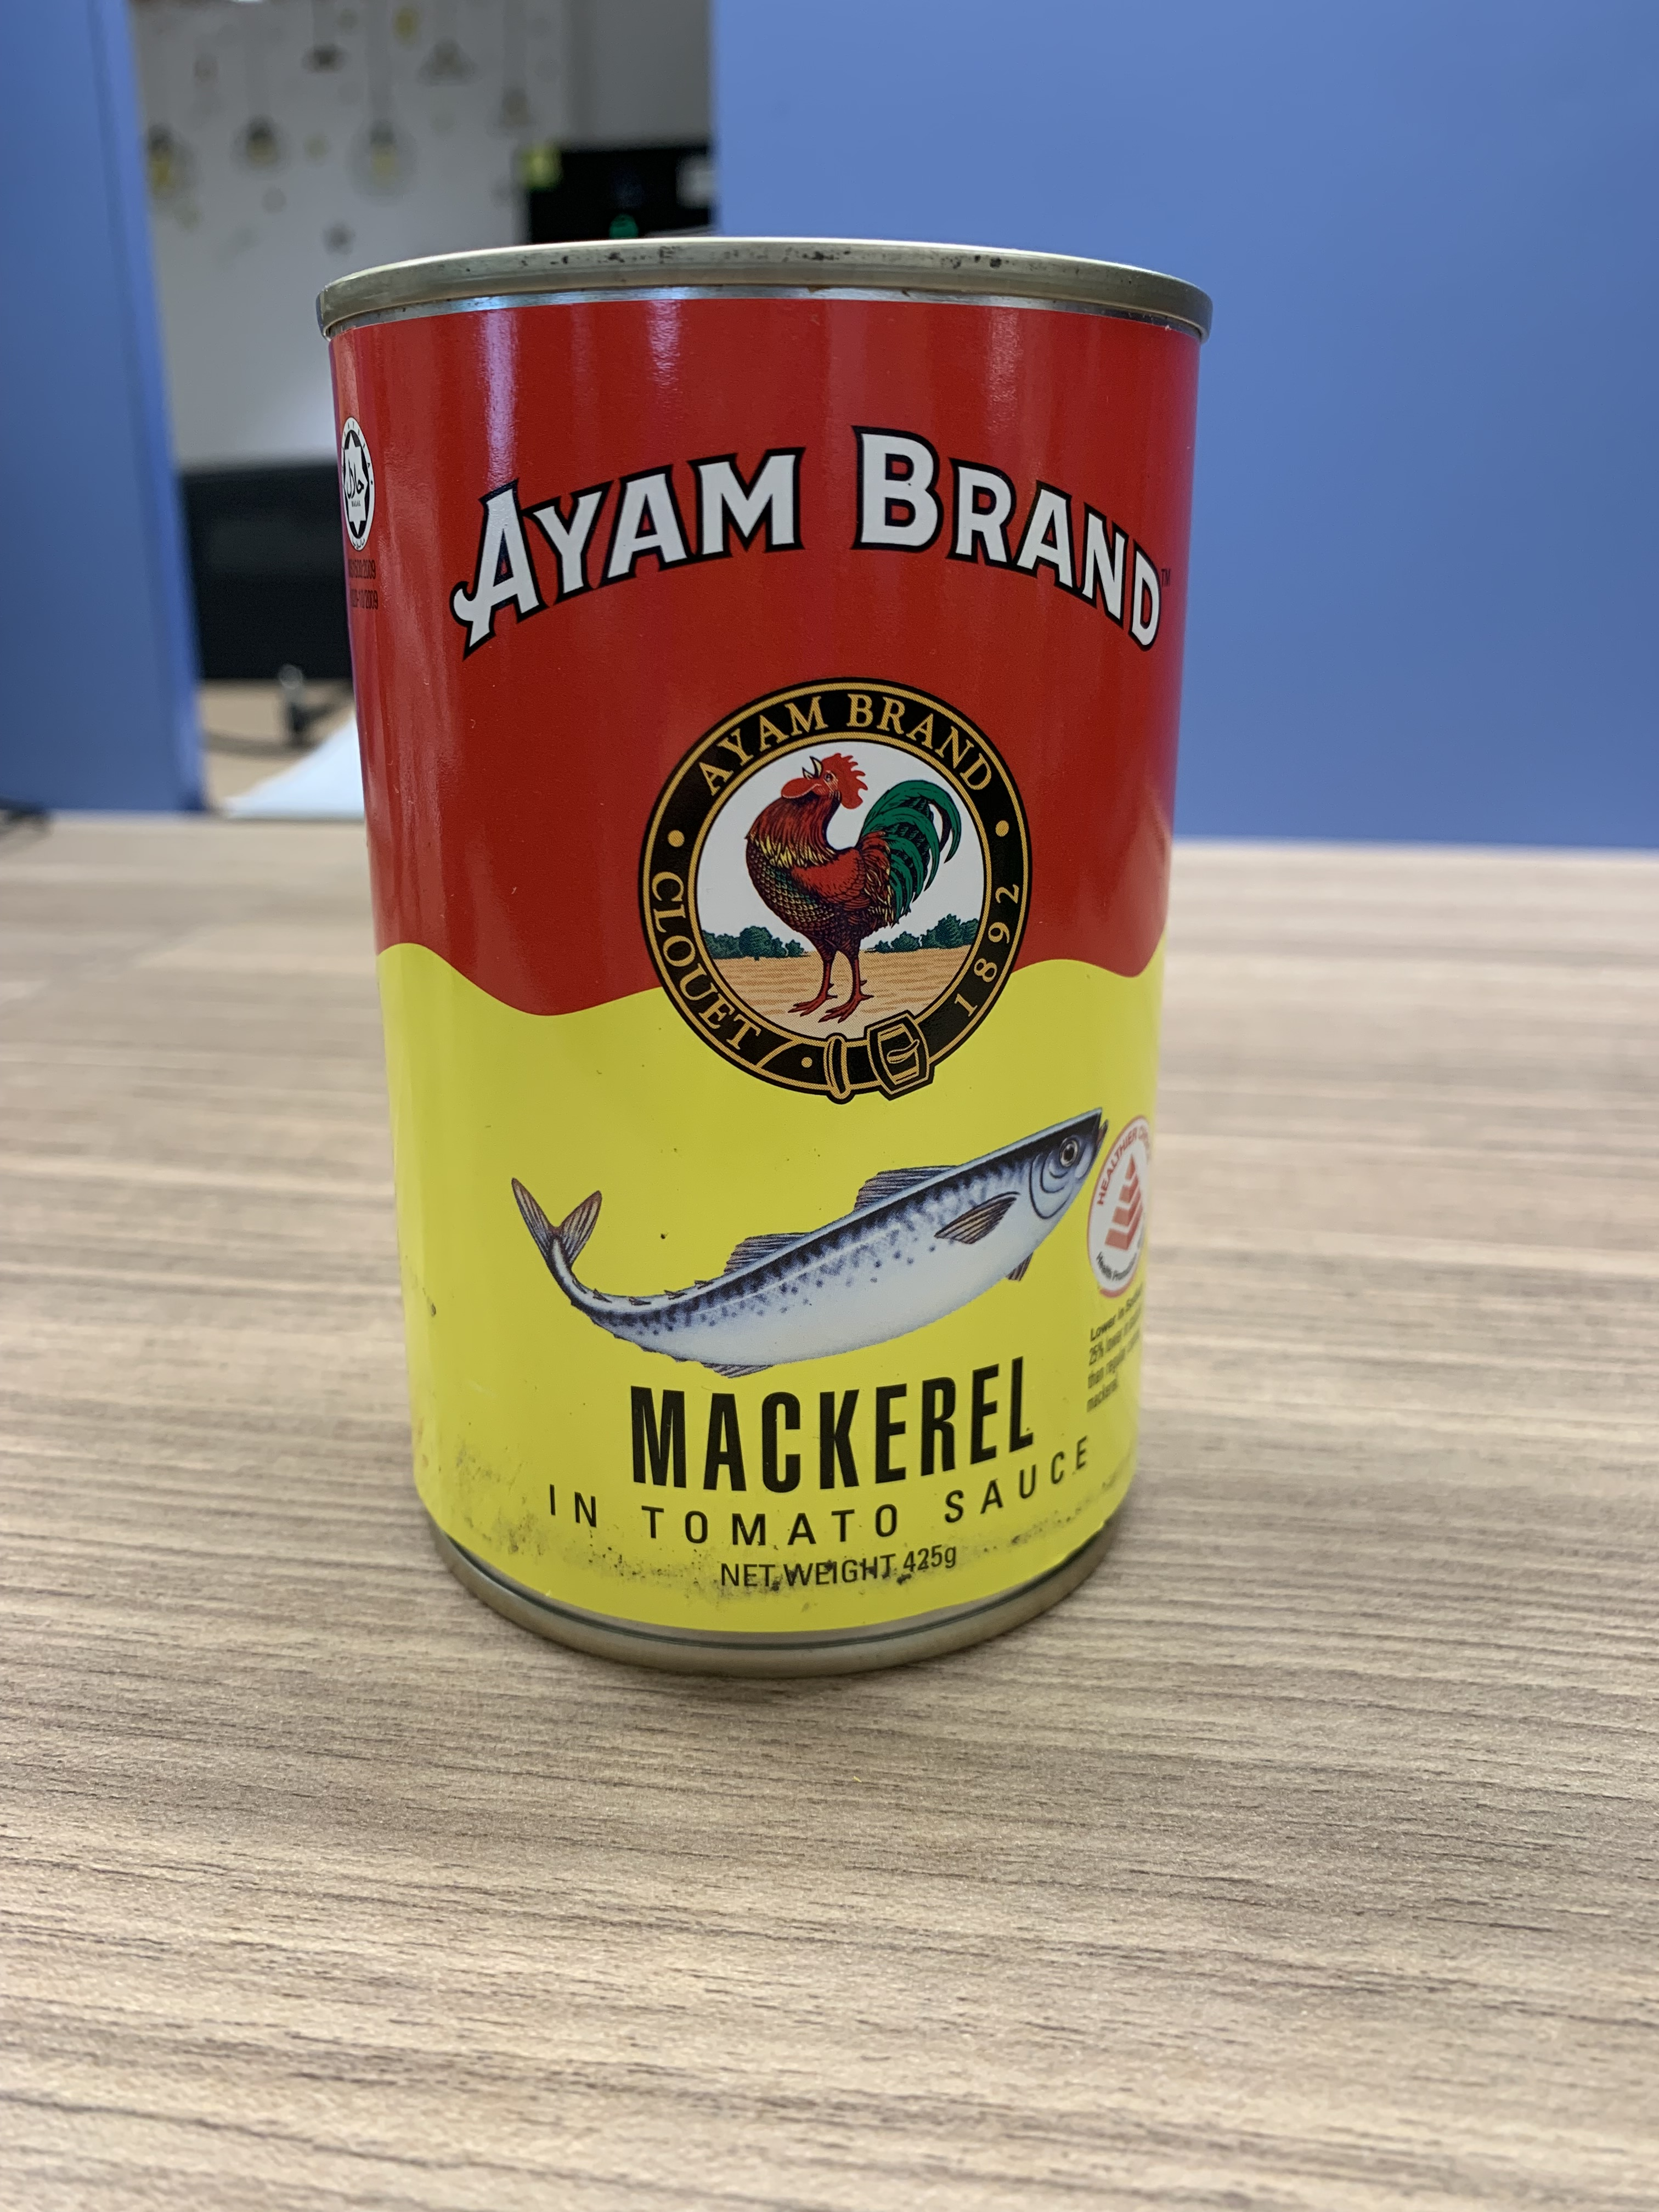sardines_400g-499g: (331, 341, 1147, 1616)
